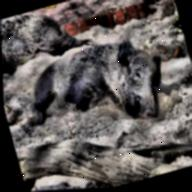boar: (7, 12, 192, 163)
